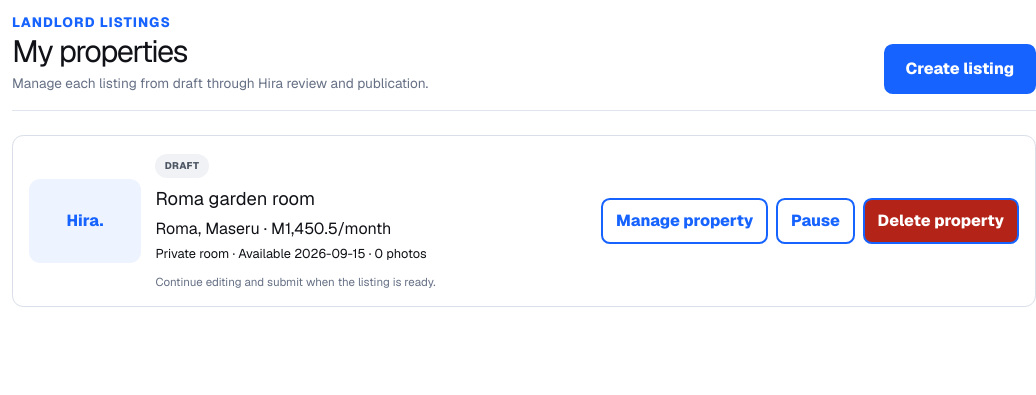
Test: PropertyList › keeps the property visible and reports a failed deletion
The image size is (1036, 395).
Click the button "Delete property" at (941, 221), box [863,198,1019,244]
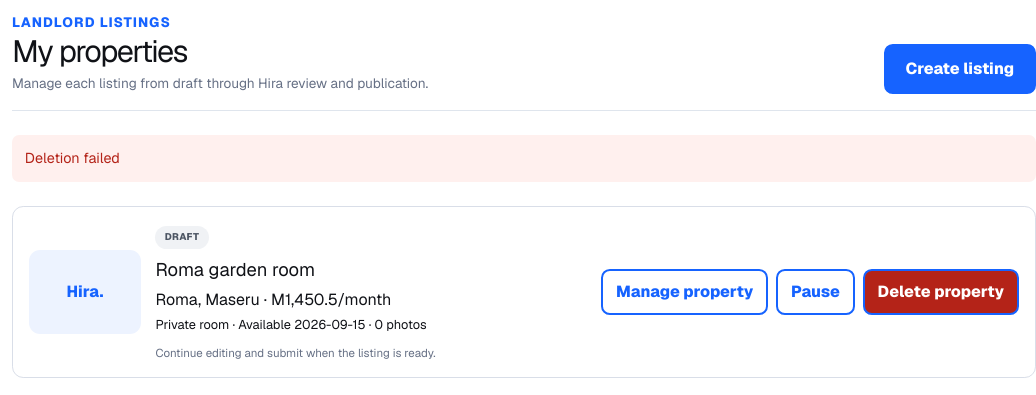
Check: the heading "Roma garden room" is shown, box [155,258,315,281]
Check: the message reads "Deletion failed", box [25,149,120,167]
